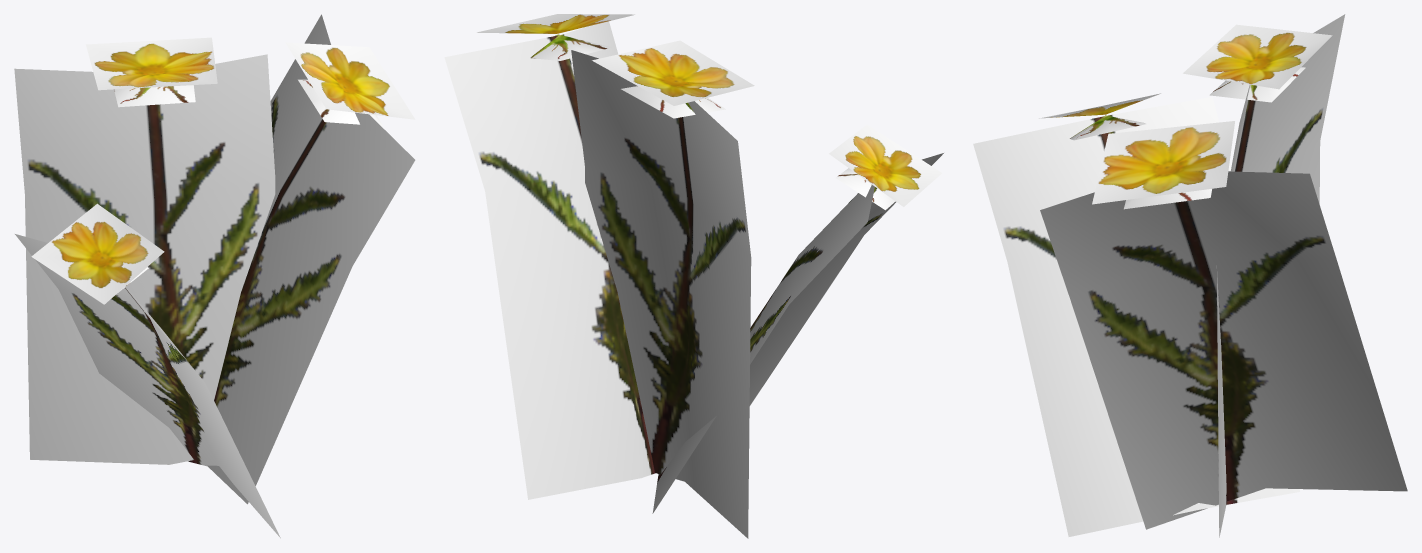
The model's file is plant03e.fbx.
The picture shows the model from 3 angles, left to right: view 1: azimuth 30°, elevation 25°; view 2: azimuth 150°, elevation 25°; view 3: azimuth 270°, elevation 25°; orthographic projection. The views are drawn at different scales.
Parts seen in each view (by area): view 1: plant03e; view 2: plant03e; view 3: plant03e.
Part boxes in pixels (left/top/right/bottom): plant03e: left=14, top=14, right=415, bottom=538; plant03e: left=444, top=14, right=943, bottom=538; plant03e: left=973, top=14, right=1407, bottom=537.
Bounding box in the file's own units: 0.3526 × 0.3863 × 0.3292.
